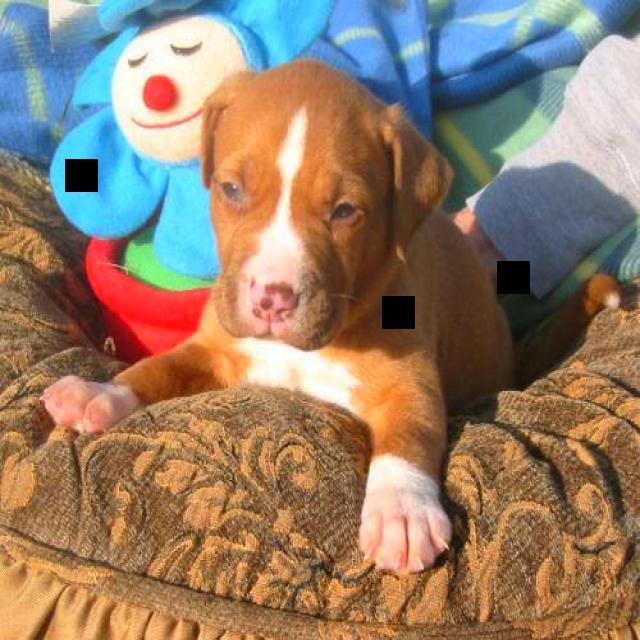puppy-dog: (38, 60, 516, 575)
